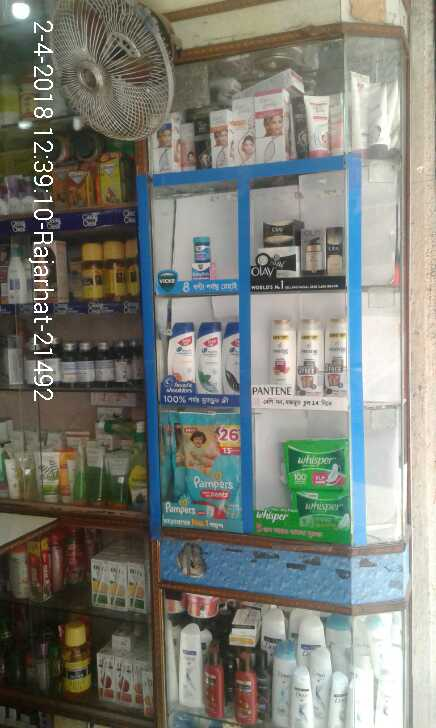vicks: (191, 235, 216, 281)
